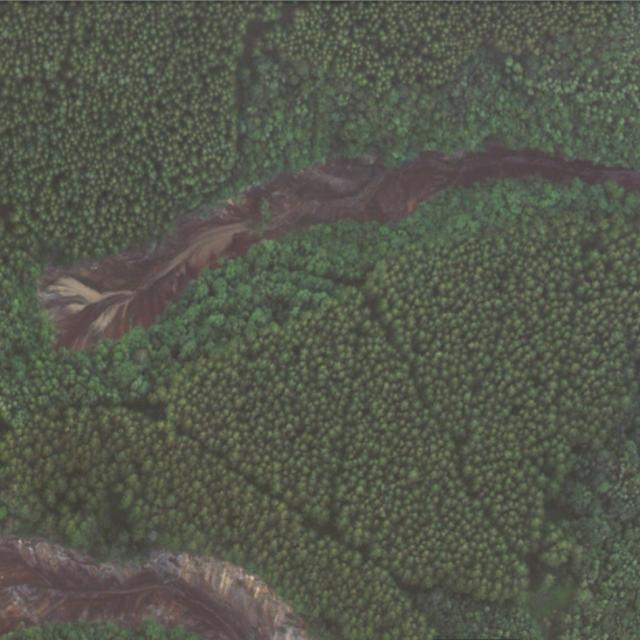landslide: (38, 145, 640, 350), (0, 540, 306, 640)
